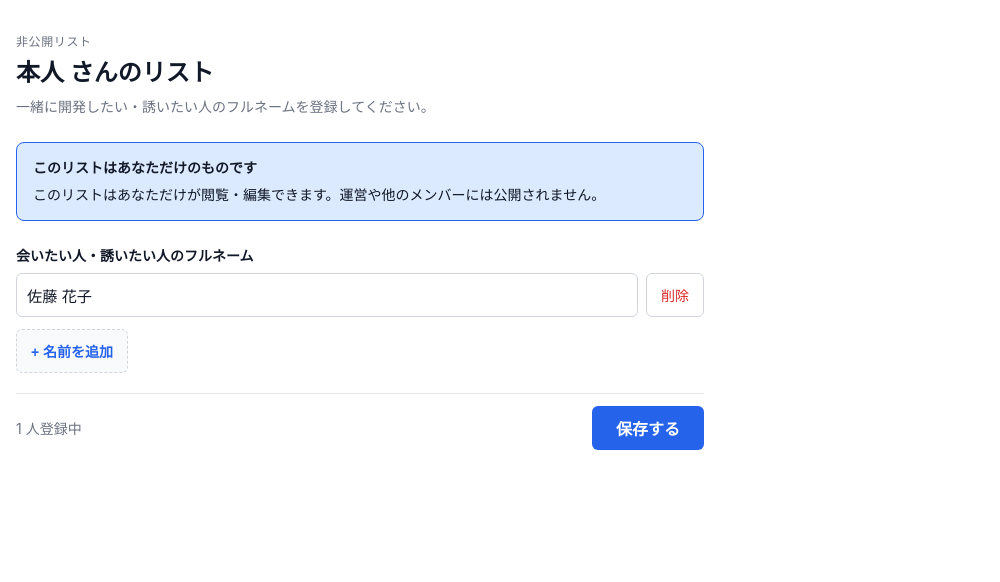
it: WhitelistFormPage smoke (宗教 PR5) › 送信で trim + 空行除去した names を POST する
# 2 行目を追加し別の名前を入れる
Click the button "+ 名前を追加": (72, 351) [16,329,128,373]
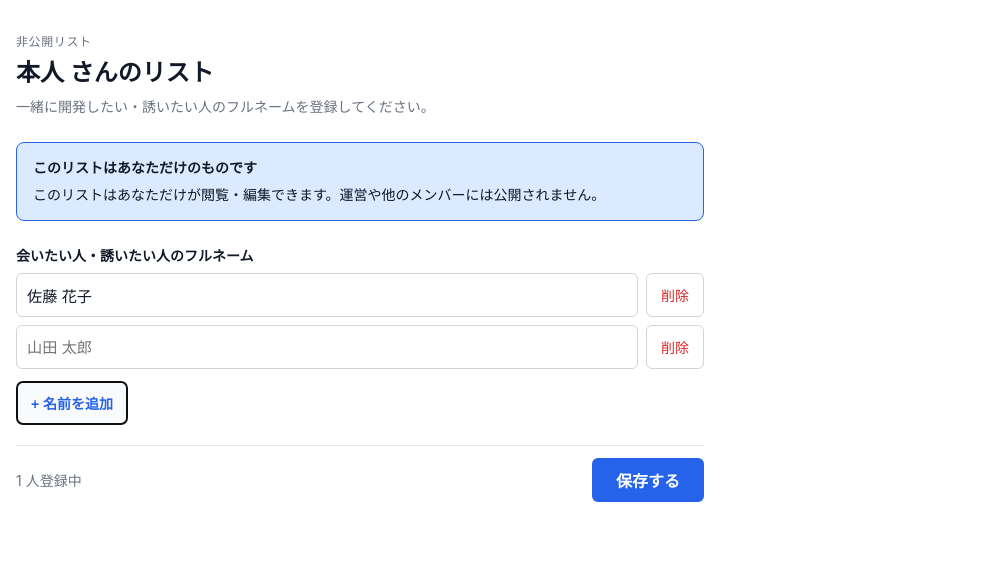
In the field named "名前 2": (327, 347) [16,325,638,369], type "田中 三郎"
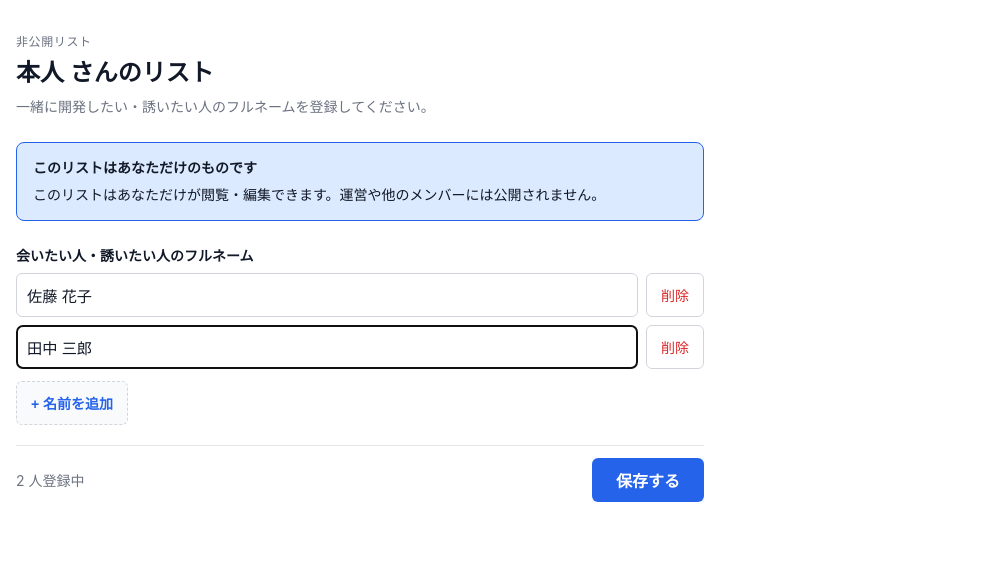
# 3 行目を追加して空のまま (送信時に除外されるべき)
Click the button "+ 名前を追加": (72, 403) [16,381,128,425]
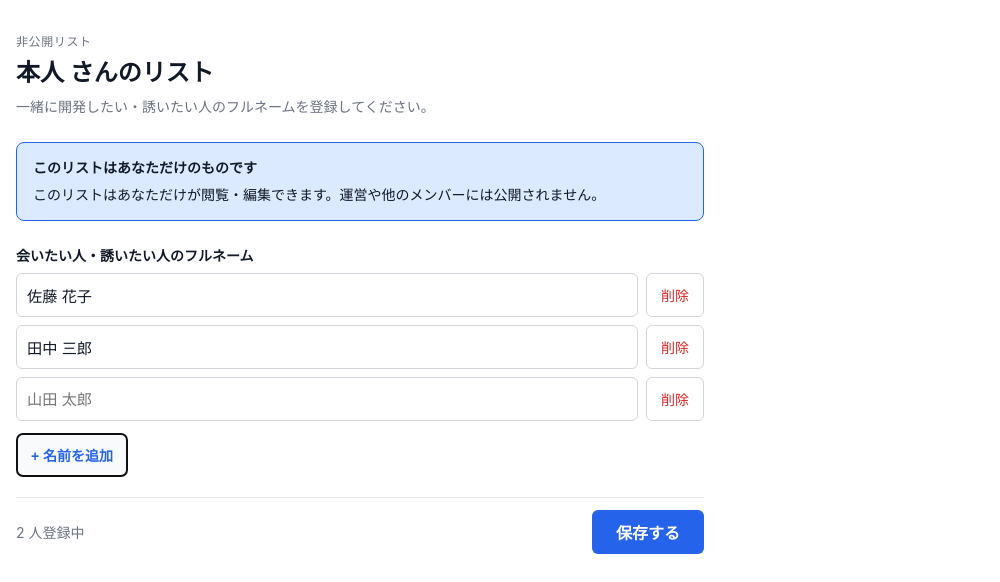
Click the button "保存する": (648, 532) [592,510,704,554]
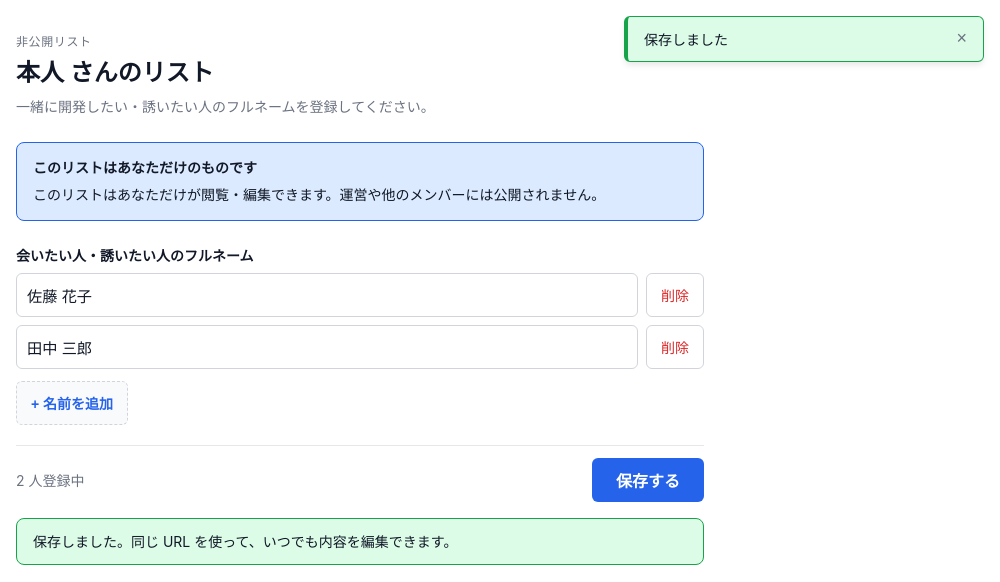
expect the field showing "佐藤 花子" holds "佐藤 花子": met, box [16,273,638,317]
expect the text "保存しました。同じ URL を使って、いつでも内容を編集できます。" is shown: met, box [16,518,704,565]
